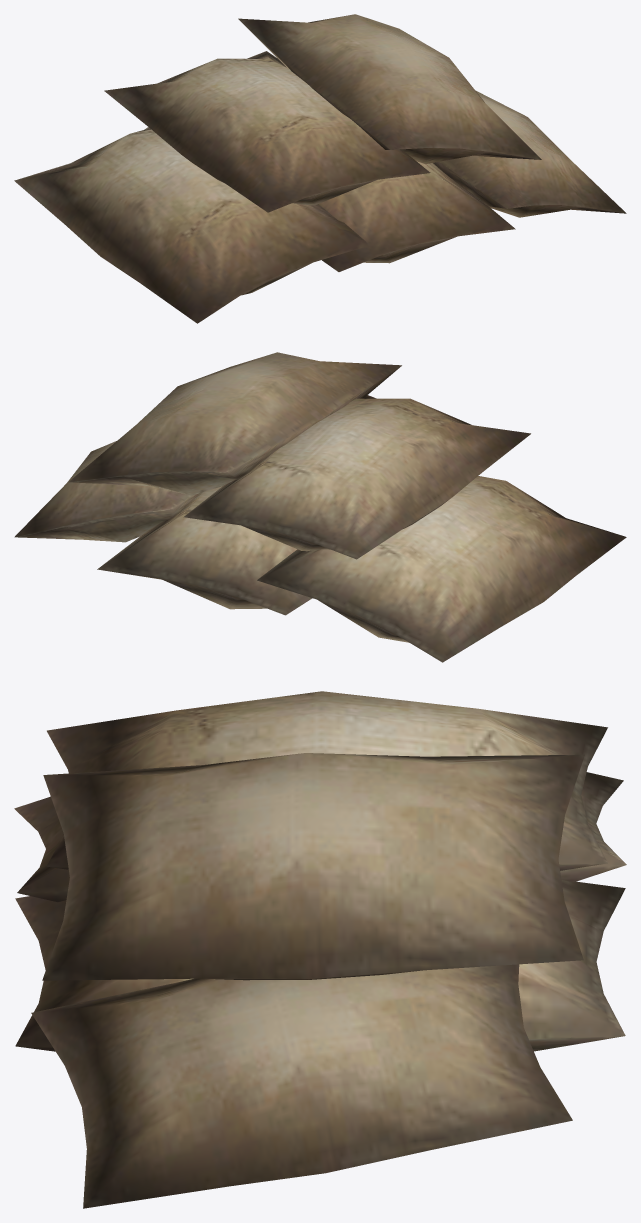
File: alex_sack02@s40.glb
The picture shows the model from 3 angles, top to bottom: view 1: azimuth 30°, elevation 25°; view 2: azimuth 150°, elevation 25°; view 3: azimuth 270°, elevation 25°; orthographic projection. The views are drawn at different scales.
Visible parts, largest first — view 1: alex_sack02; view 2: alex_sack02; view 3: alex_sack02.
Part boxes in pixels (left/top/right/bottom): alex_sack02: left=14, top=14, right=626, bottom=323; alex_sack02: left=14, top=352, right=626, bottom=662; alex_sack02: left=14, top=691, right=626, bottom=1208.
Bounding box in the file's own units: 1.22 × 0.4635 × 0.8258.
1 material, 1 textured.
